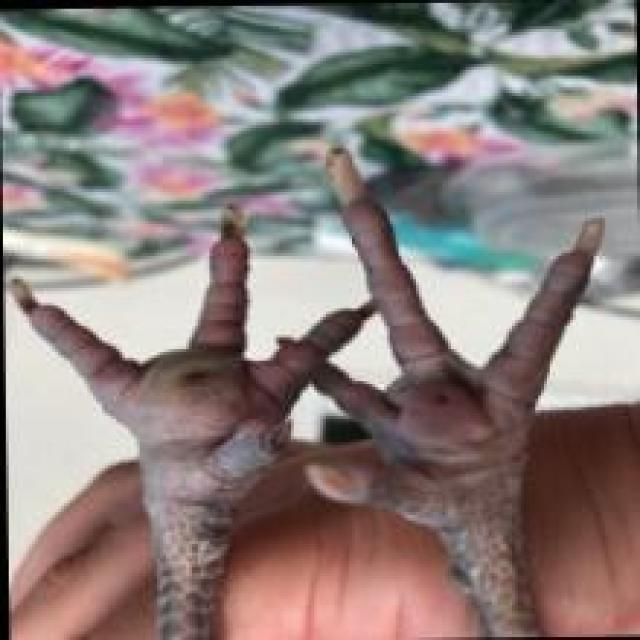Bumble foot: (100, 312, 278, 482), (348, 320, 512, 495)
